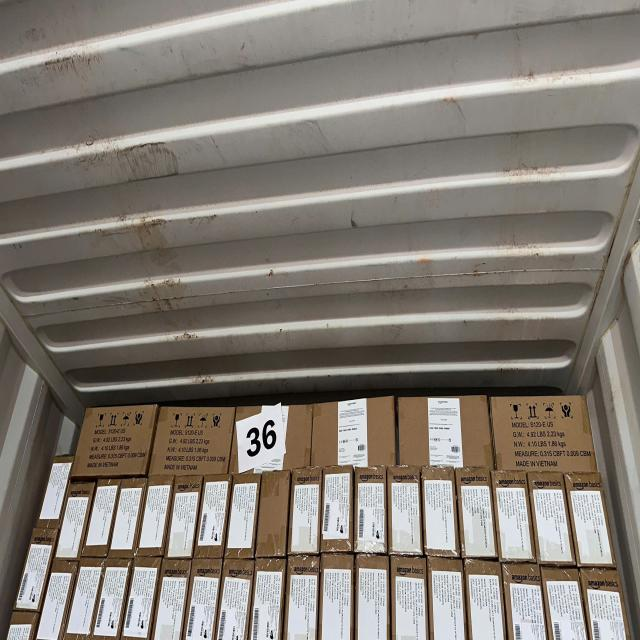Carton: (491, 391, 597, 473), (398, 394, 492, 470), (149, 408, 235, 473), (228, 409, 314, 474), (71, 407, 155, 473), (313, 400, 395, 467), (566, 474, 618, 570), (491, 474, 539, 567), (12, 520, 58, 616), (530, 477, 576, 567), (458, 471, 500, 562), (420, 469, 462, 558), (35, 556, 78, 638), (580, 569, 629, 640), (387, 466, 425, 557), (122, 558, 162, 640), (504, 562, 546, 640), (426, 559, 466, 640), (466, 559, 506, 640), (150, 555, 188, 640), (390, 557, 428, 640), (56, 478, 94, 560), (541, 566, 583, 640), (109, 477, 147, 558), (215, 561, 253, 640), (354, 555, 389, 640), (166, 474, 202, 556), (319, 558, 355, 640), (354, 467, 388, 552), (33, 454, 73, 526), (83, 481, 121, 556), (196, 477, 230, 559), (139, 476, 173, 558), (284, 558, 318, 640), (323, 469, 355, 551), (189, 559, 221, 640), (257, 476, 290, 554), (292, 470, 322, 555), (67, 564, 101, 638), (253, 559, 284, 640), (229, 476, 259, 556), (99, 568, 127, 638)
